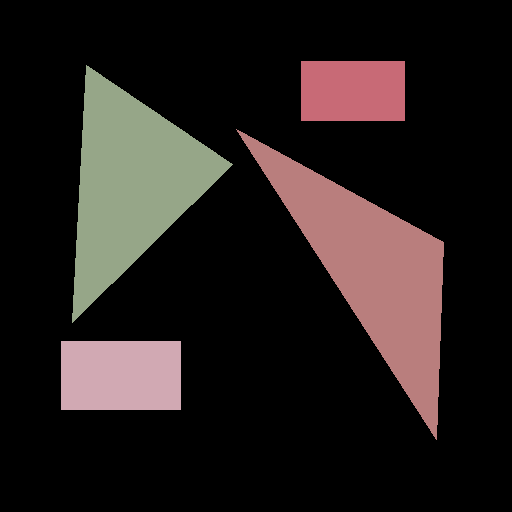rectangle: (61, 341, 180, 409), (301, 61, 404, 120)
triangle: (236, 129, 443, 439), (72, 65, 232, 322)
